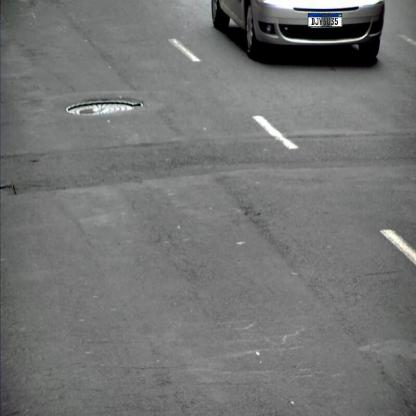PlacaM: (308, 13, 342, 27)
